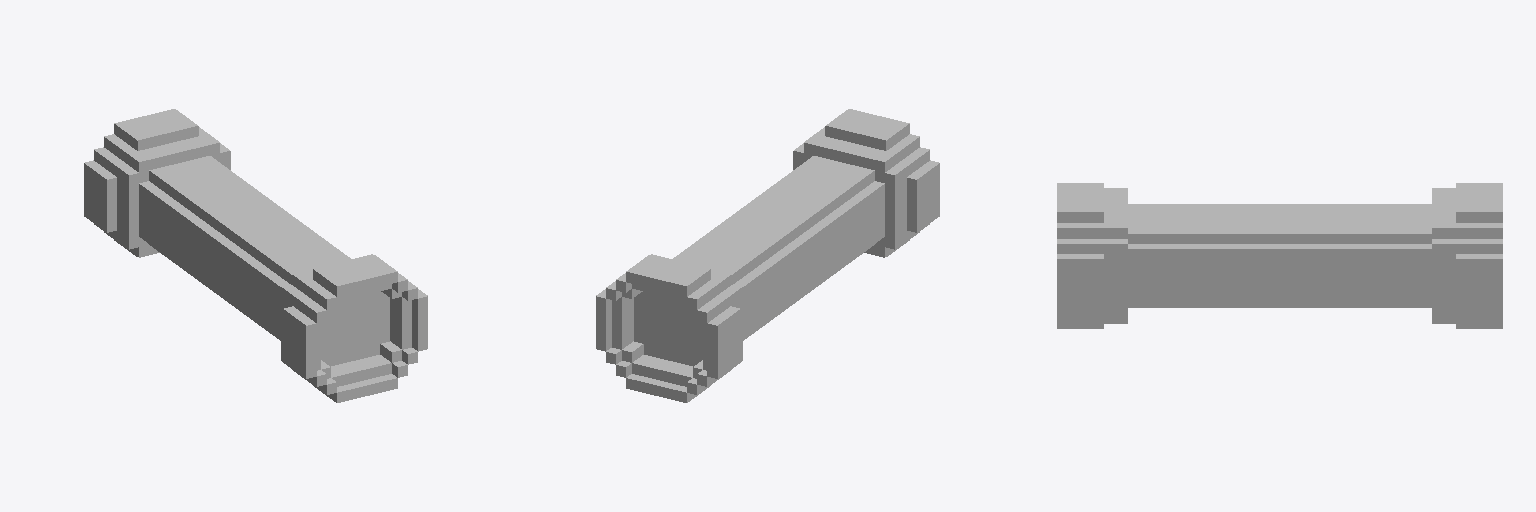
Rendered from RocketLauncher.obj.
3 views of the same model, side by side, from view 1: azimuth 30°, elevation 25°; view 2: azimuth 150°, elevation 25°; view 3: azimuth 270°, elevation 25° (orthographic).
Visible parts, largest first — view 1: RocketLauncher; view 2: RocketLauncher; view 3: RocketLauncher.
Part boxes in pixels (x1,y1,x2,y2): RocketLauncher: (84,109,427,402); RocketLauncher: (596,109,939,402); RocketLauncher: (1057,183,1502,328).
Bounding box in the file's own units: 12 × 11 × 38.